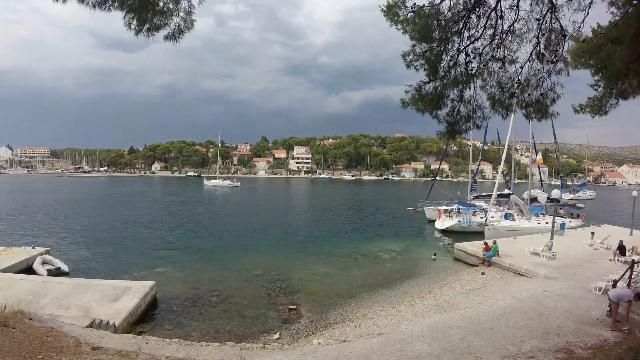Freighter: (64, 164, 114, 180)
Sailboat: (196, 169, 244, 189)
